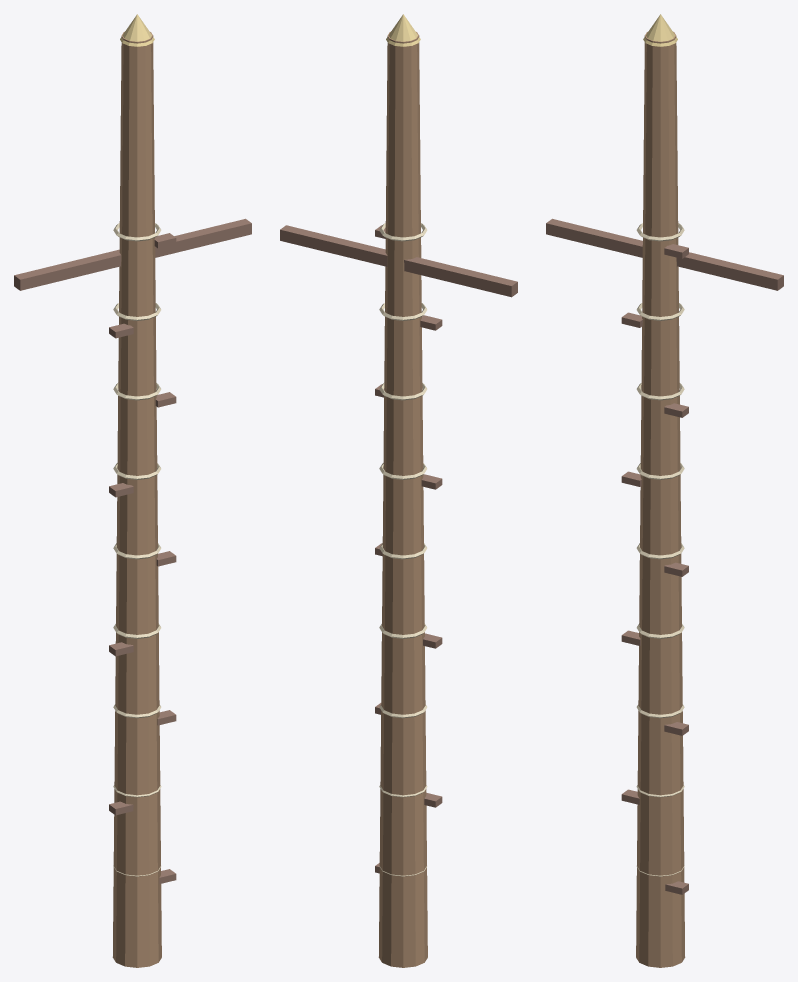
Rendered from mastil.glb.
3 renders of one model, left to right at view 1: azimuth 30°, elevation 25°; view 2: azimuth 150°, elevation 25°; view 3: azimuth 330°, elevation 25°, orthographic.
Visible parts, largest first — view 1: mastil; view 2: mastil; view 3: mastil.
Boxes of the visible parts, x1,y1,x2,y2 form: mastil: (14,14,251,967); mastil: (280,14,517,967); mastil: (546,14,783,967).
Size of the model in its own units: 3.05 by 11.87 by 0.56.
